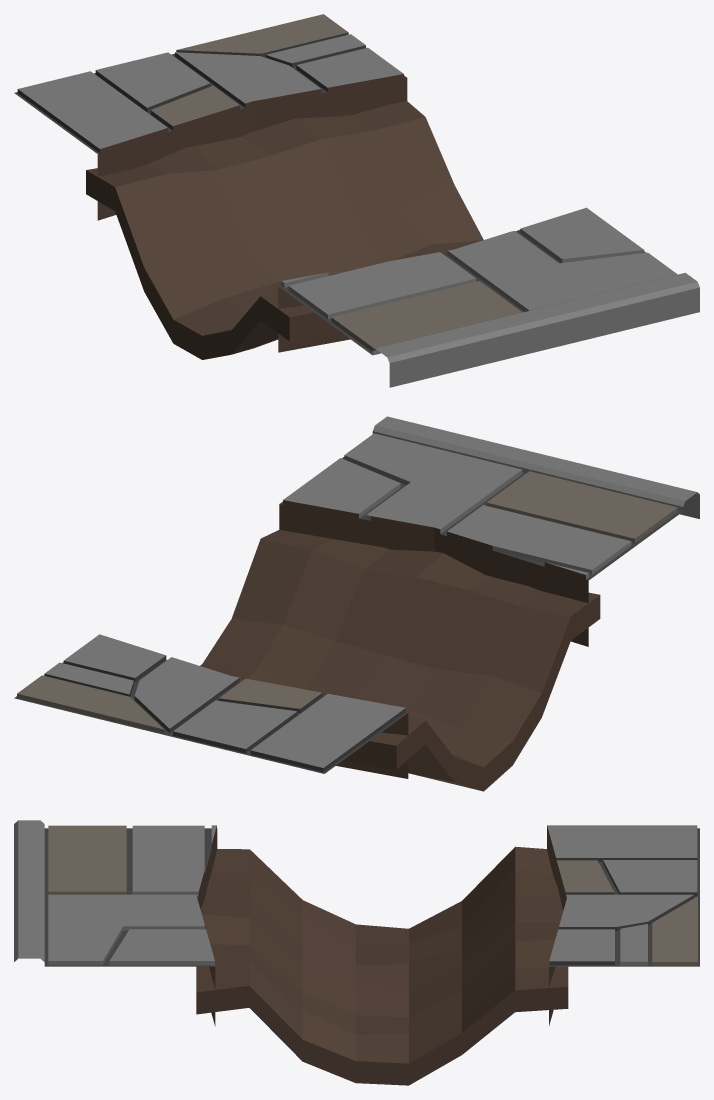
The model's file is Walkway Modern Hole B - 2.fbx.
3 renders of one model, top to bottom at view 1: azimuth 30°, elevation 25°; view 2: azimuth 150°, elevation 25°; view 3: azimuth 270°, elevation 25°, orthographic. The views are drawn at different scales.
Parts seen in each view (by area): view 1: Walkway Modern Hole B - 2.001; view 2: Walkway Modern Hole B - 2.001; view 3: Walkway Modern Hole B - 2.001.
Part boxes in pixels (bbox=[...]): Walkway Modern Hole B - 2.001: bbox=[14, 14, 699, 387]; Walkway Modern Hole B - 2.001: bbox=[14, 416, 699, 791]; Walkway Modern Hole B - 2.001: bbox=[14, 820, 699, 1085].
Bounding box in the file's own units: 305 × 639 × 134.
